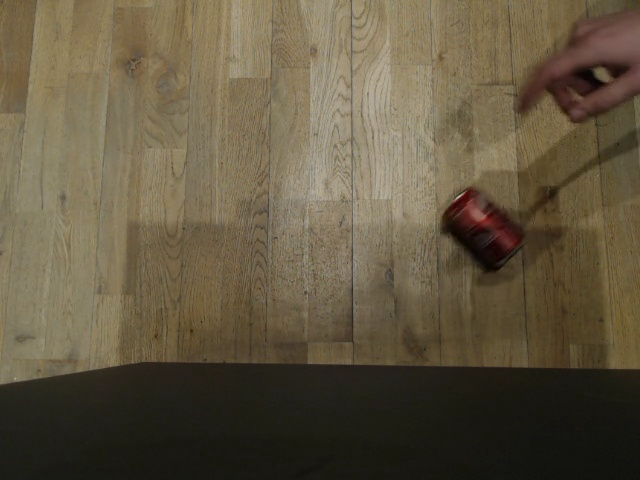coke: (442, 180, 526, 266)
